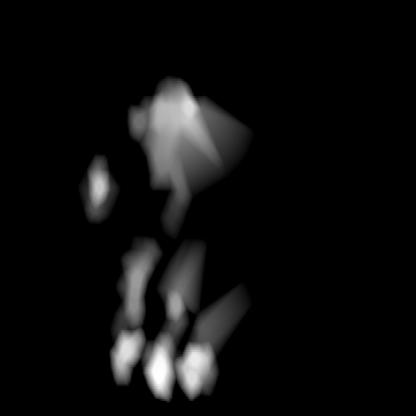fingers: (84, 160, 110, 216)
palm: (112, 248, 228, 394)
thumb: (127, 74, 236, 211)
